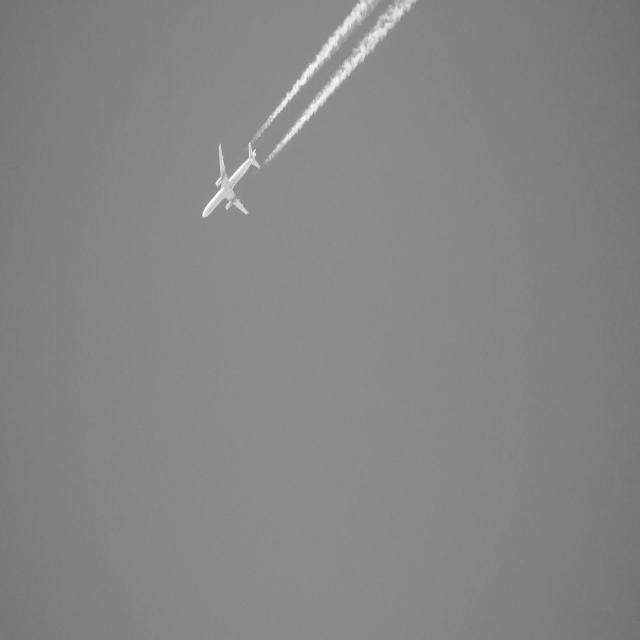aeroplane: (200, 141, 263, 231)
